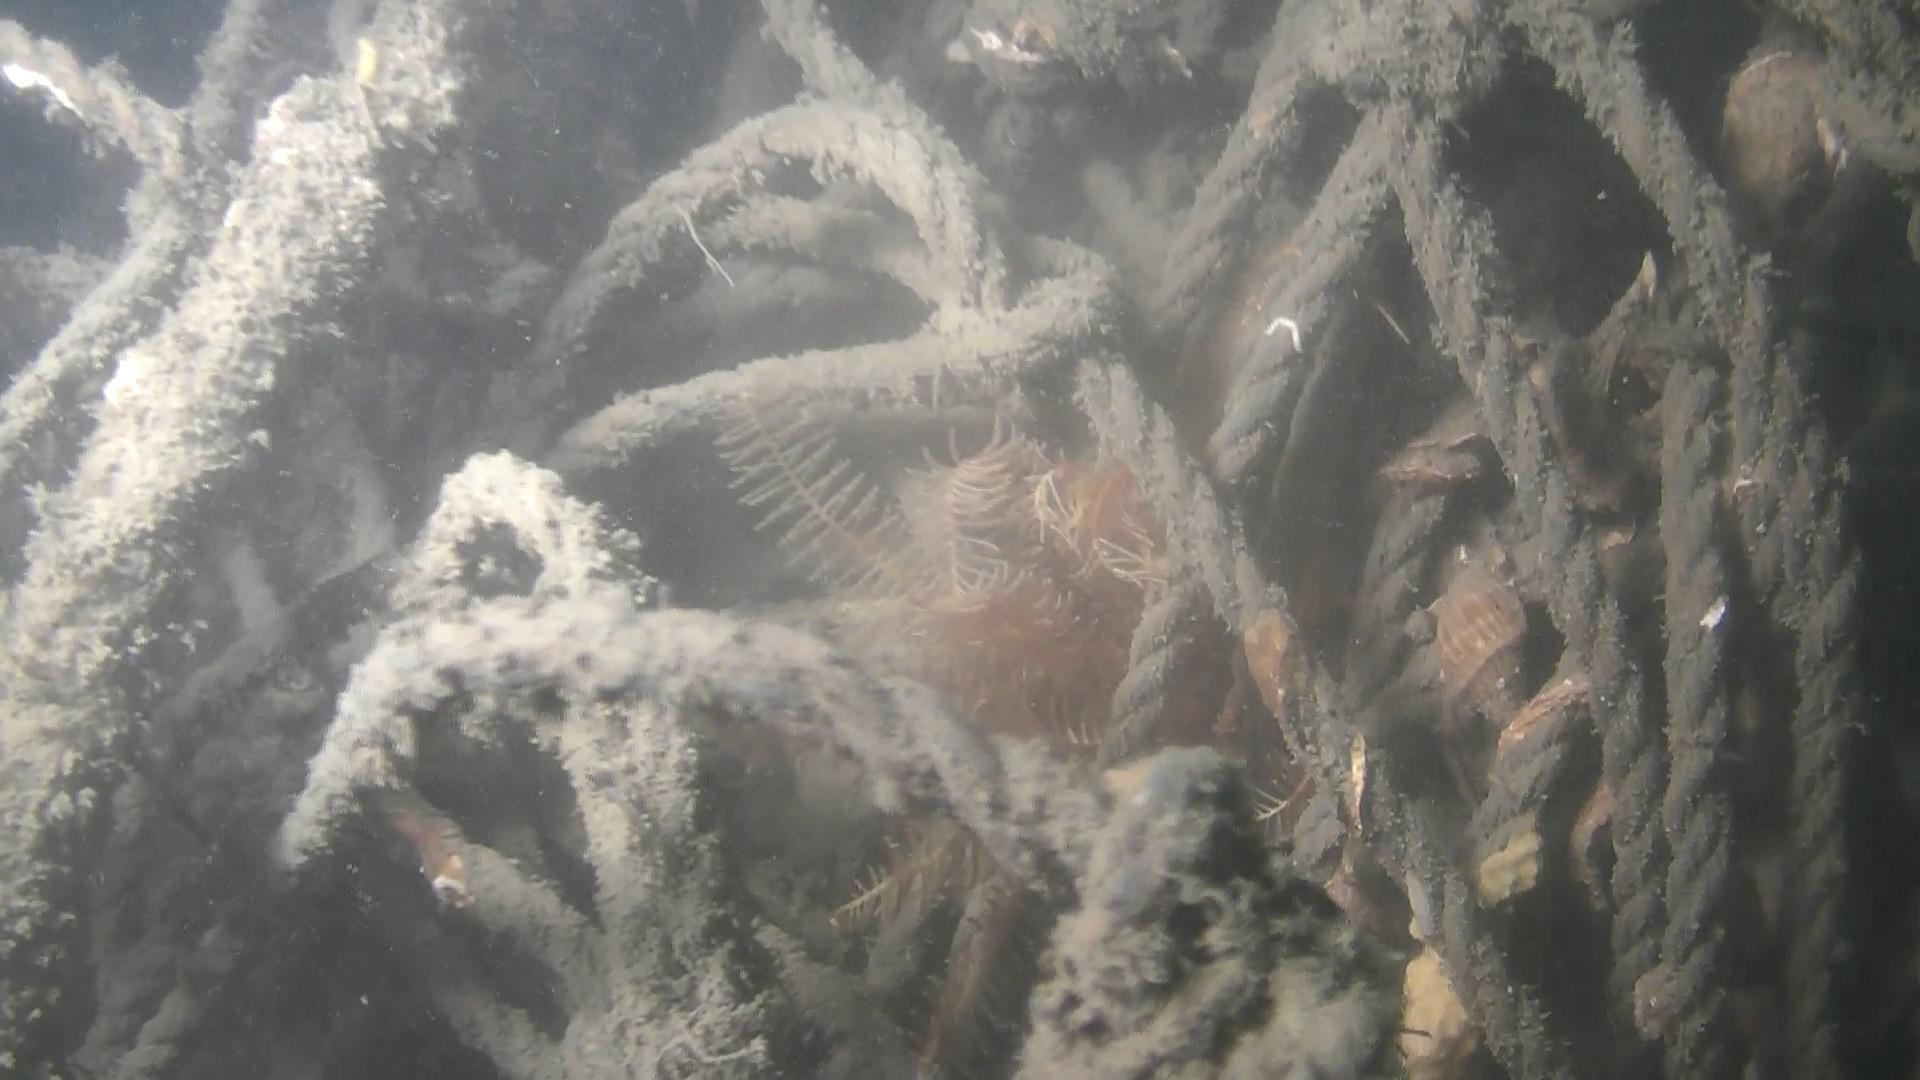bundle of ropes: (0, 0, 1862, 1073)
